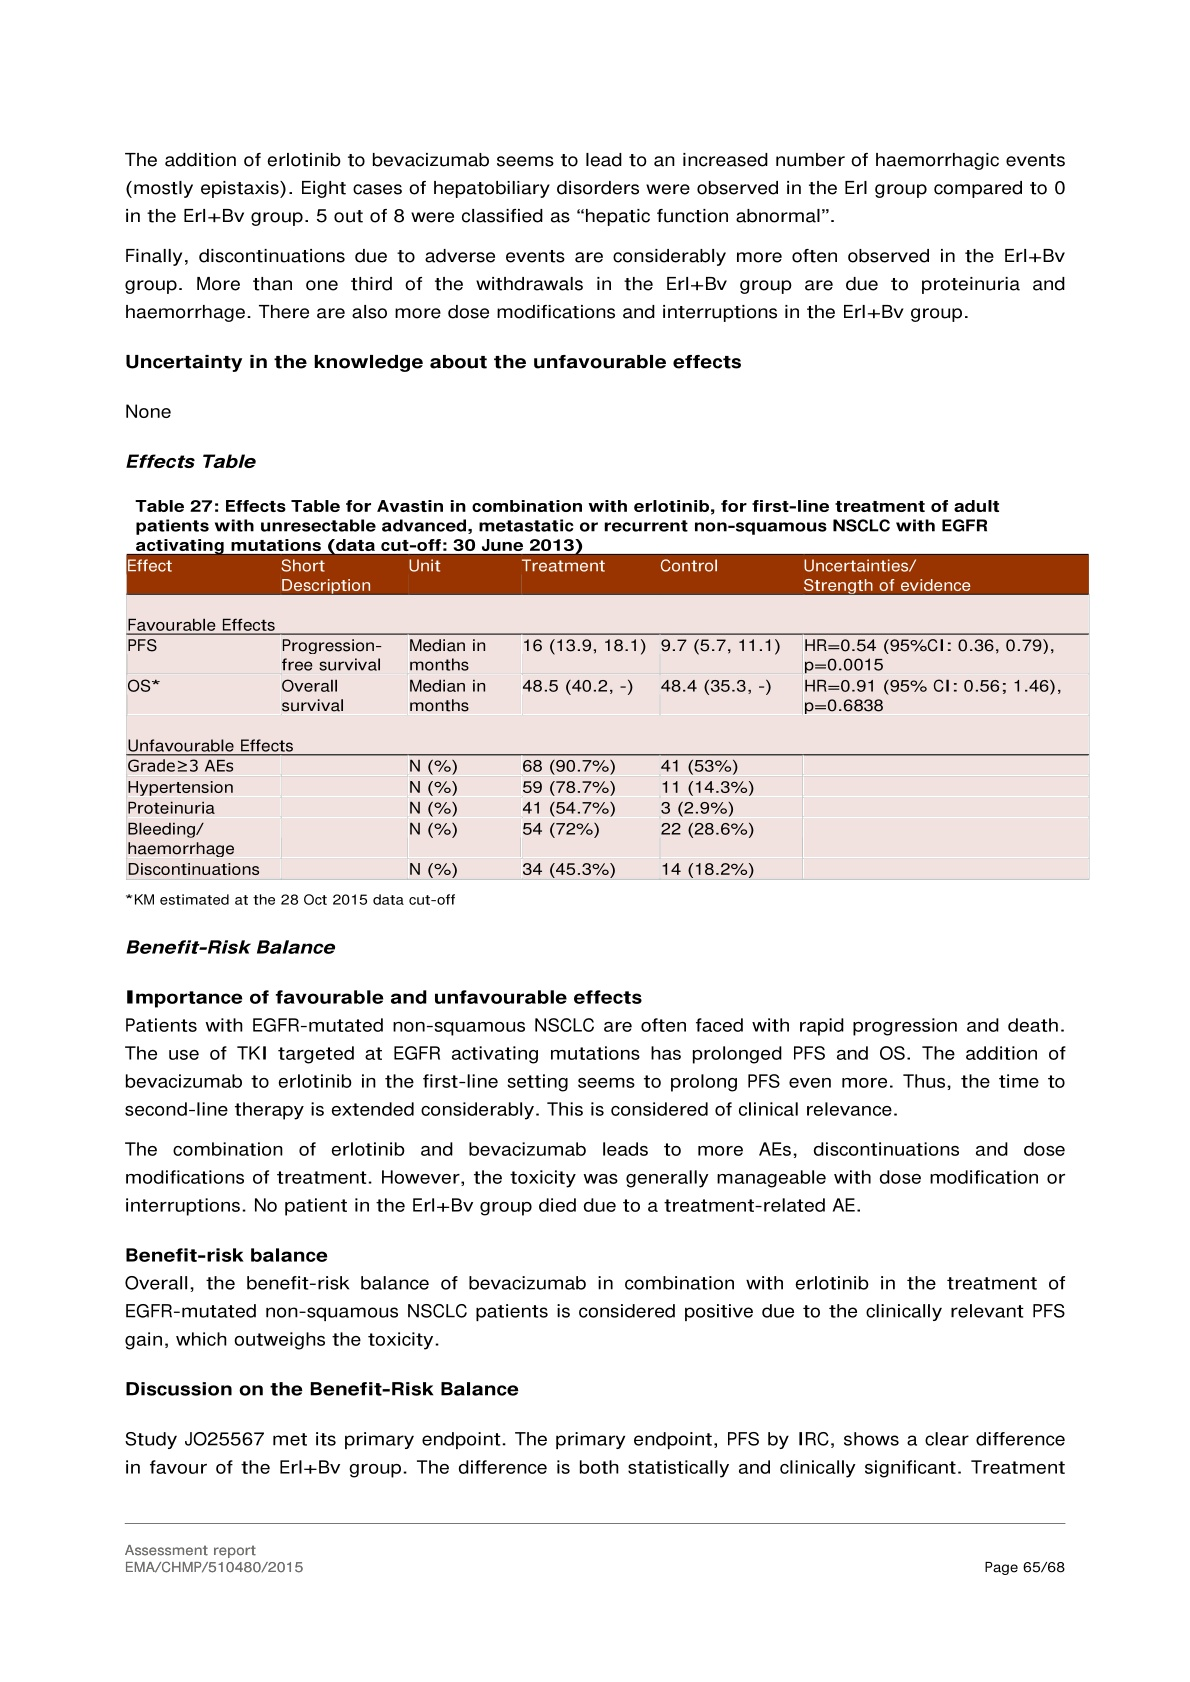merged_cells: (125, 553, 1090, 881)
